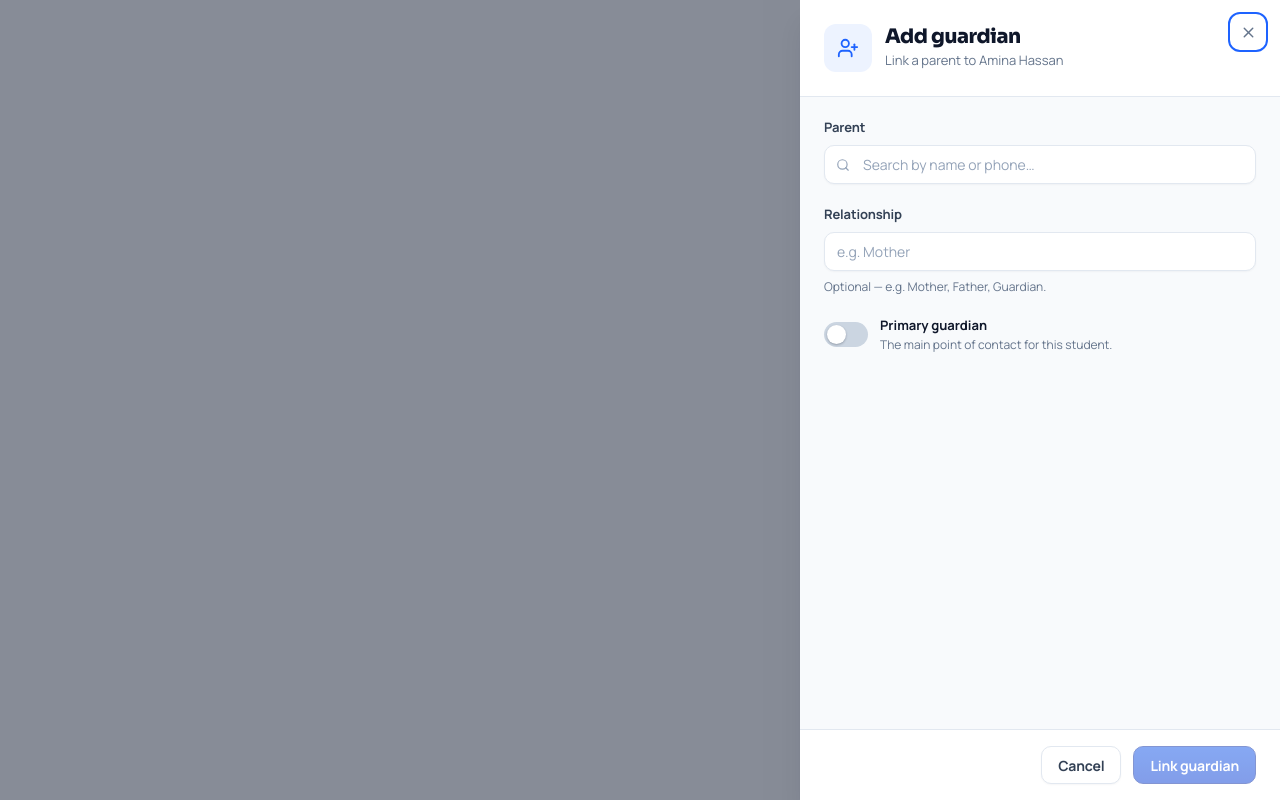
Test: LinkGuardianForm › searches by name and shows the existing children count once a parent is selected
The width and height of the screenshot is (1280, 800).
Type "Fatima" into the field labelled "Parent". click: (1040, 165)
box: [824,145,1256,184]
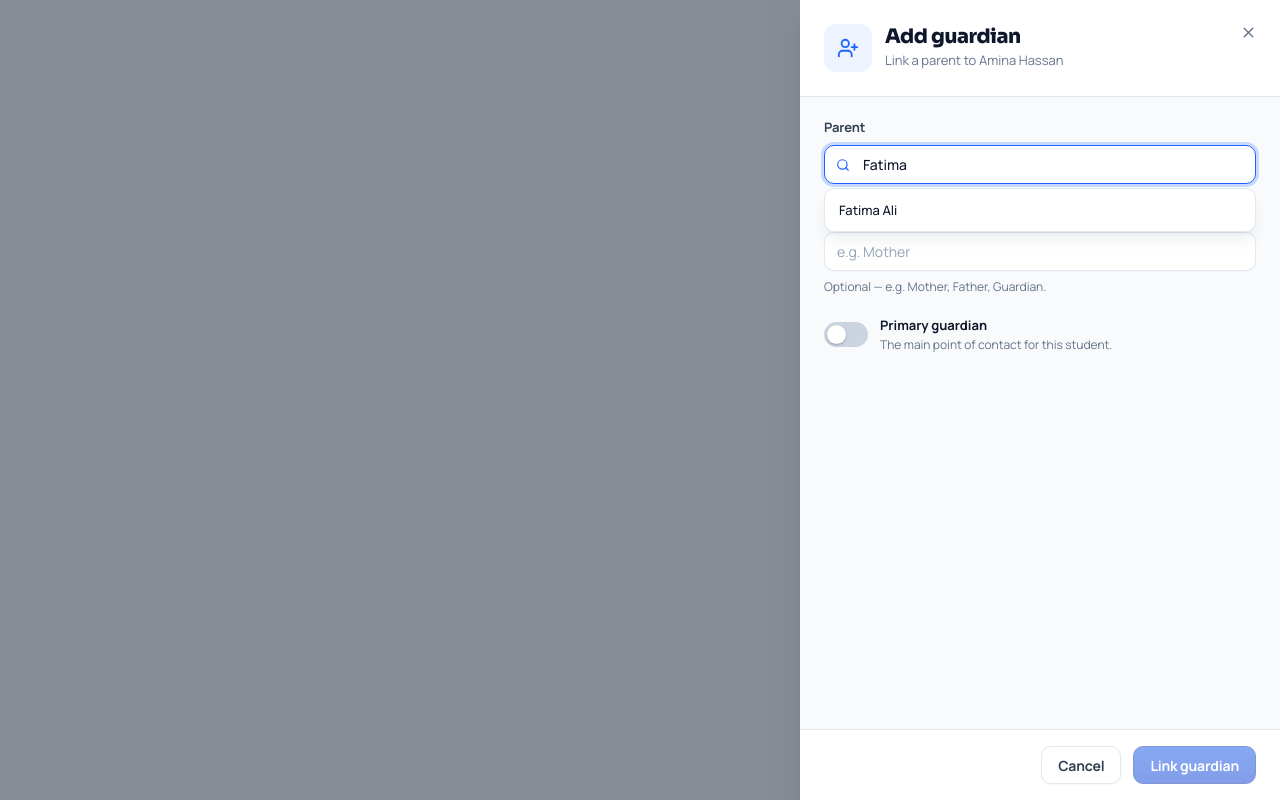
Click the option "Fatima Ali". click: (868, 210)
box: [829,193,1251,227]
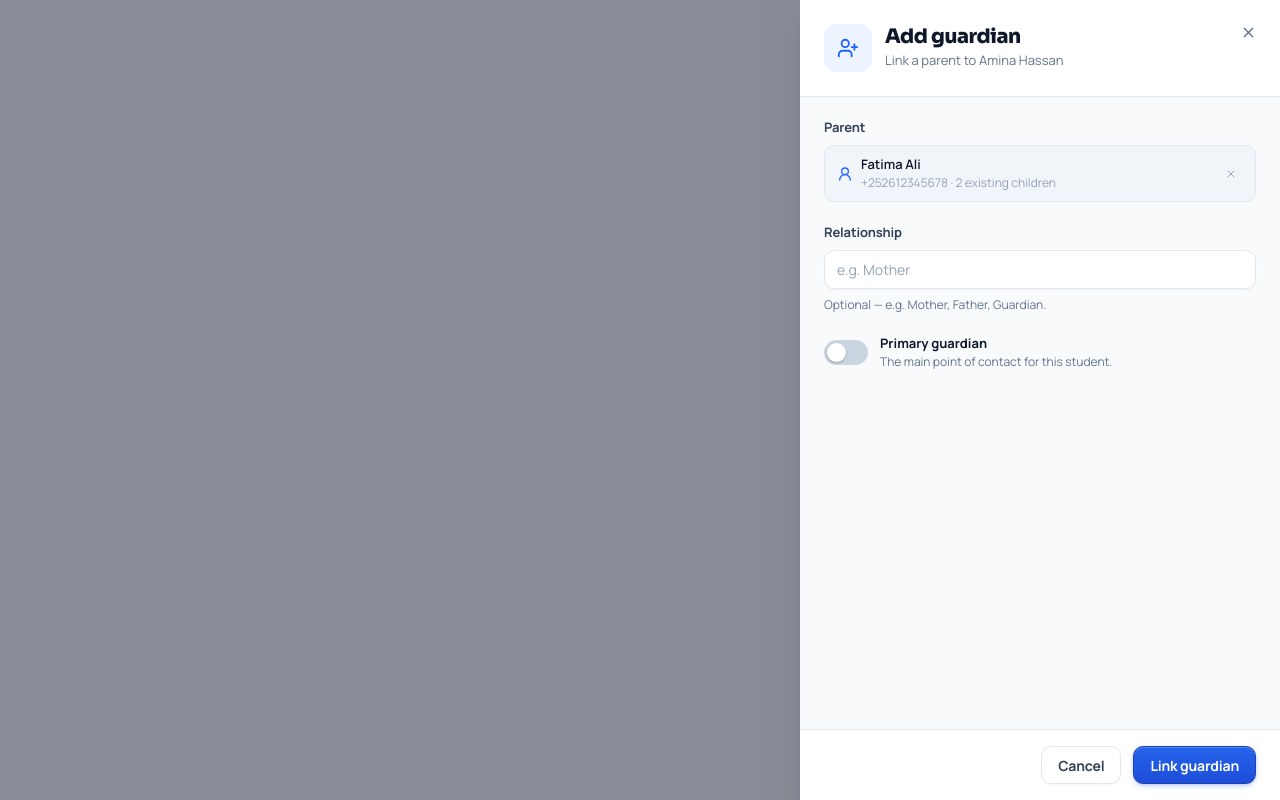
Check: the text "Fatima Ali" is shown, box [861,155,921,173]
Check: the text "+252612345678 · 2 existing children" is shown, box [861,174,1056,191]
